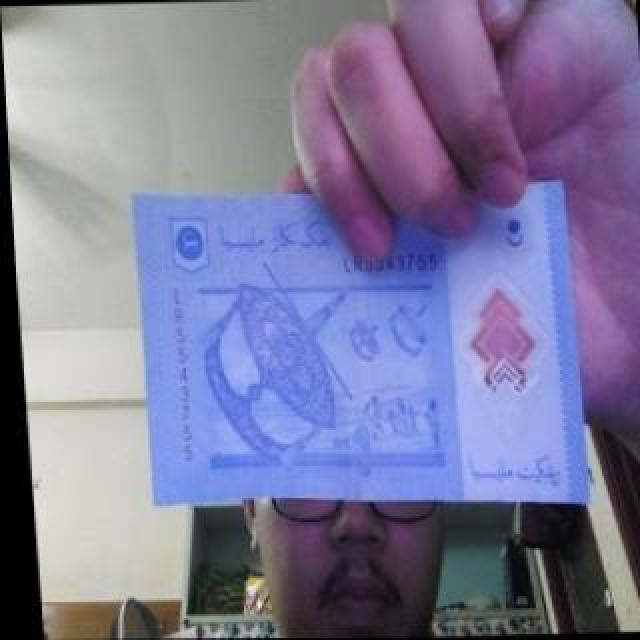1 Ringgit: (116, 184, 585, 515)
